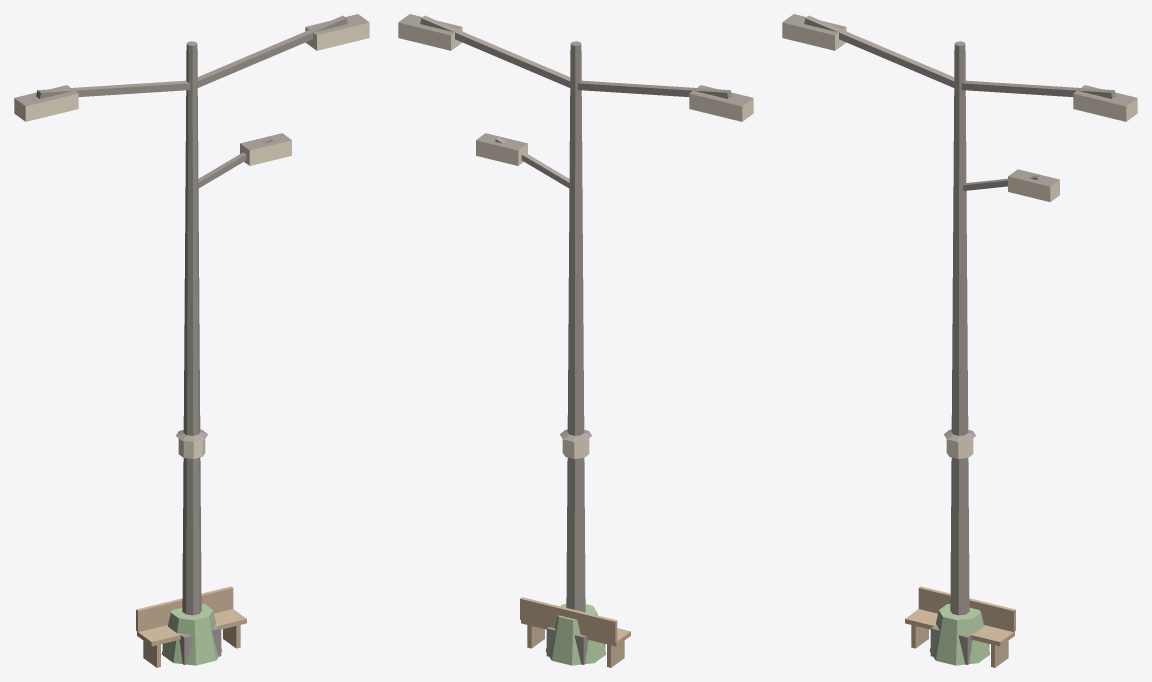
The model's file is street_protos.glb.
3 views of the same model, side by side, from view 1: azimuth 30°, elevation 25°; view 2: azimuth 150°, elevation 25°; view 3: azimuth 330°, elevation 25° (orthographic).
Parts seen in each view (by area): view 1: lamp_double, bench, shrub_a, lamp_single, garden_light; view 2: lamp_double, bench, shrub_a, lamp_single, garden_light; view 3: lamp_double, bench, shrub_a, lamp_single, garden_light.
Part boxes in pixels (<box>): lamp_double: <box>14,14,369,664</box>; bench: <box>136,586,246,667</box>; shrub_a: <box>161,604,221,665</box>; lamp_single: <box>198,133,291,188</box>; garden_light: <box>176,429,208,458</box>; lamp_double: <box>398,14,753,664</box>; bench: <box>520,597,630,667</box>; shrub_a: <box>546,604,606,665</box>; lamp_single: <box>476,133,569,188</box>; garden_light: <box>559,429,591,458</box>; lamp_double: <box>782,14,1137,664</box>; bench: <box>905,586,1015,667</box>; shrub_a: <box>930,604,990,665</box>; lamp_single: <box>963,169,1059,201</box>; garden_light: <box>943,429,975,458</box>.
Size of the model in its own units: 6.5 by 11 by 0.9239.
